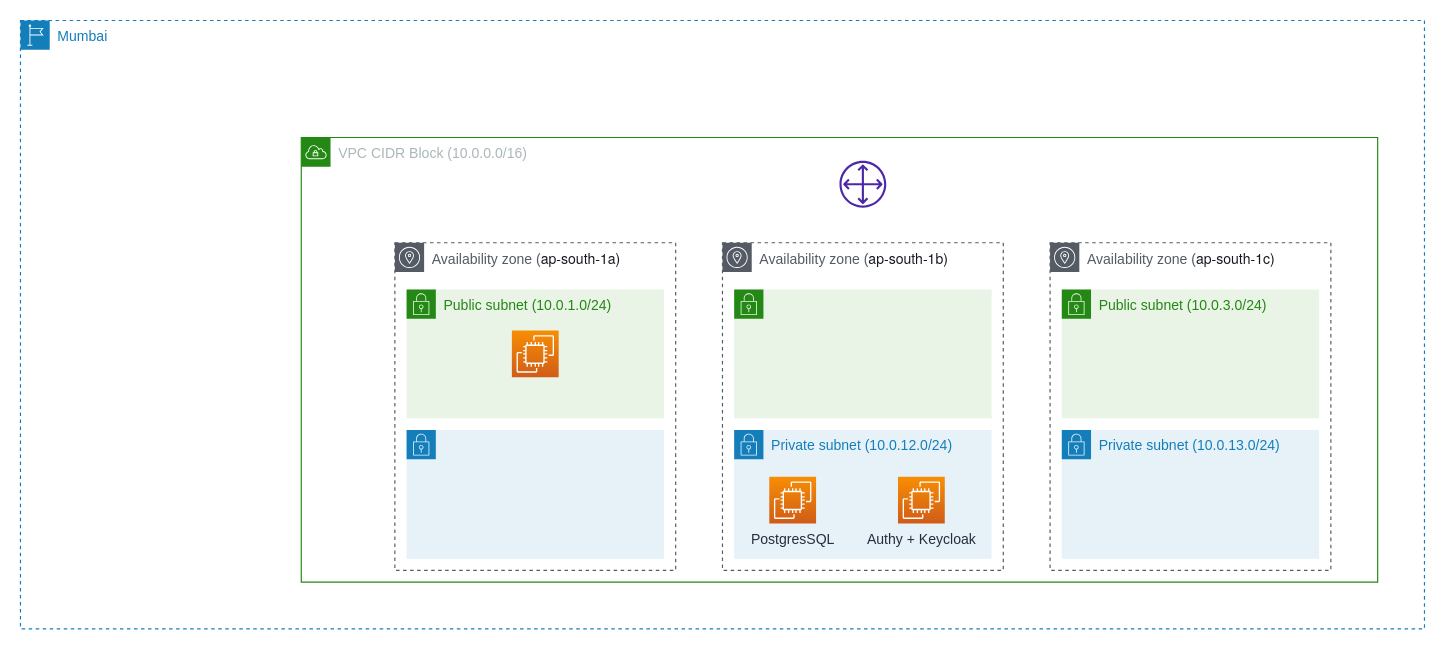
Image size: 1445x649. Some labels were removed from this diagram. The centre of each missing label's shape, as x and y in pixels:
"API Gateway" goes at point (535, 353).
"Private subnet (10.0.11.0/24)" goes at point (534, 494).
"Public subnet (10.0.2.0/24)" goes at point (862, 353).
"Router" goes at point (862, 183).
